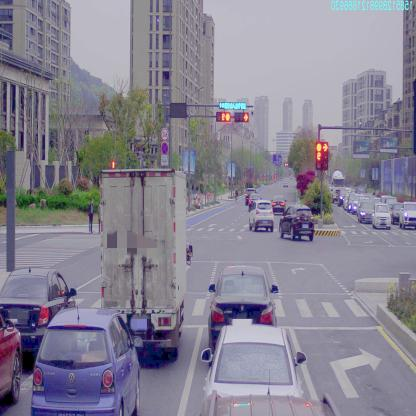traffic-light: (219, 101, 246, 109), (234, 112, 250, 122), (218, 112, 232, 121)
